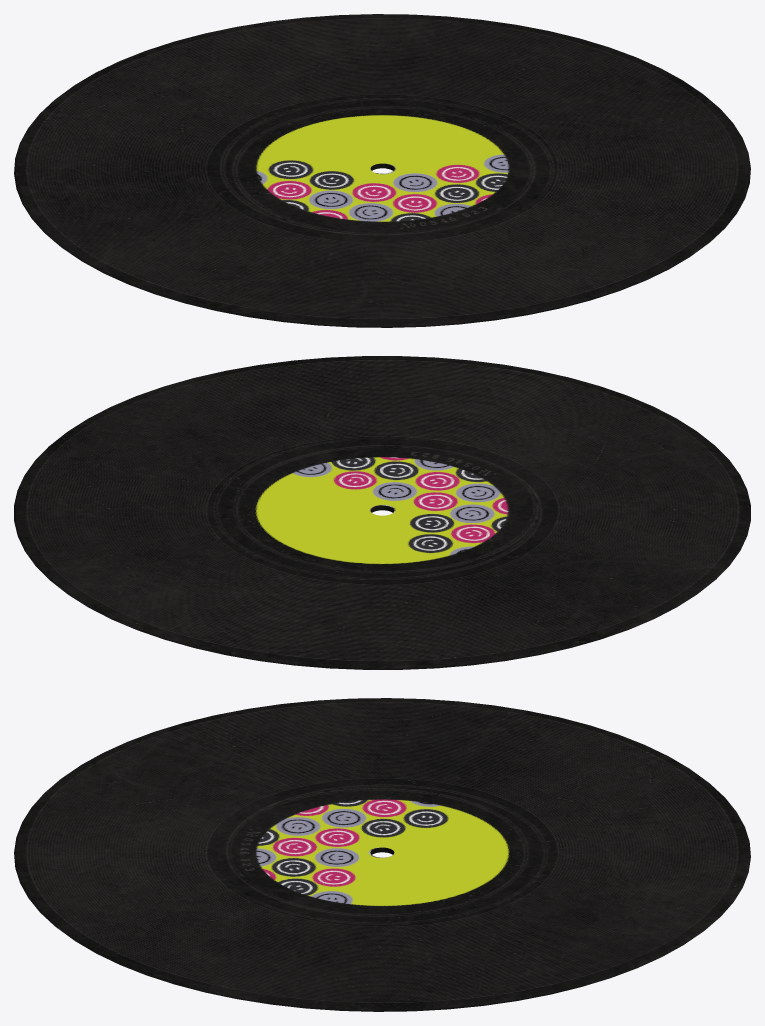
File: diskbasdepage.glb
The picture shows the model from 3 angles, top to bottom: view 1: azimuth 30°, elevation 25°; view 2: azimuth 150°, elevation 25°; view 3: azimuth 270°, elevation 25°; orthographic projection.
Visible parts, largest first — view 1: disk_uk001; view 2: disk_uk001; view 3: disk_uk001.
Boxes of the visible parts, x1=… form: disk_uk001: x1=14, y1=14, x2=750, y2=327; disk_uk001: x1=14, y1=356, x2=750, y2=669; disk_uk001: x1=14, y1=698, x2=750, y2=1011.
Size of the model in its own units: 0.2499 by 0.00177 by 0.2499.
Materials: 1 (1 with a texture image).
